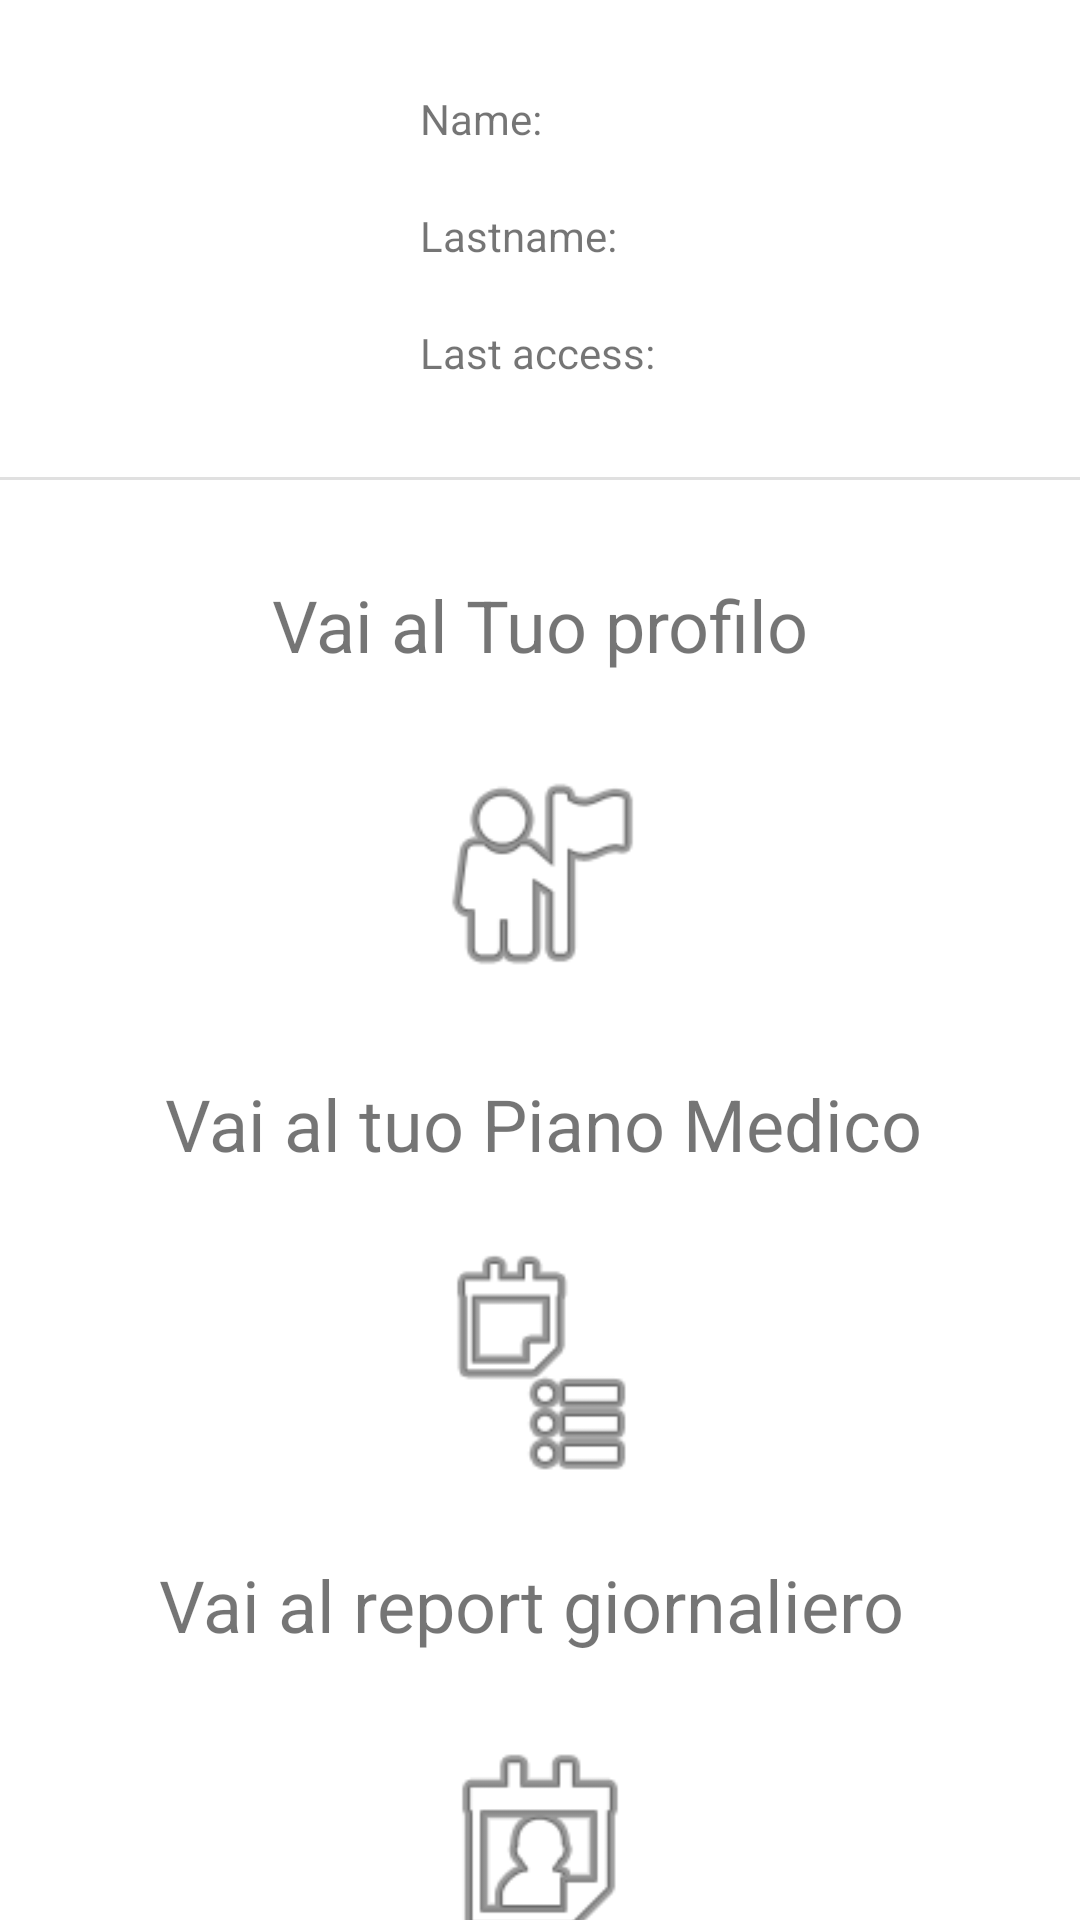

Where icons sit on this 1080*1920 app screen, as (x1, y1, x2, y2):
agenda: (457, 1256, 626, 1470)
myplaces: (452, 784, 633, 964)
